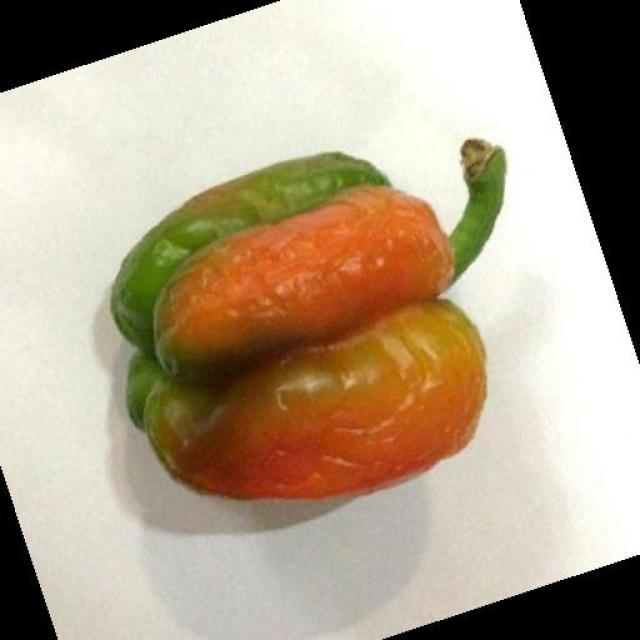Stale_Capsicum: (118, 145, 518, 495)
